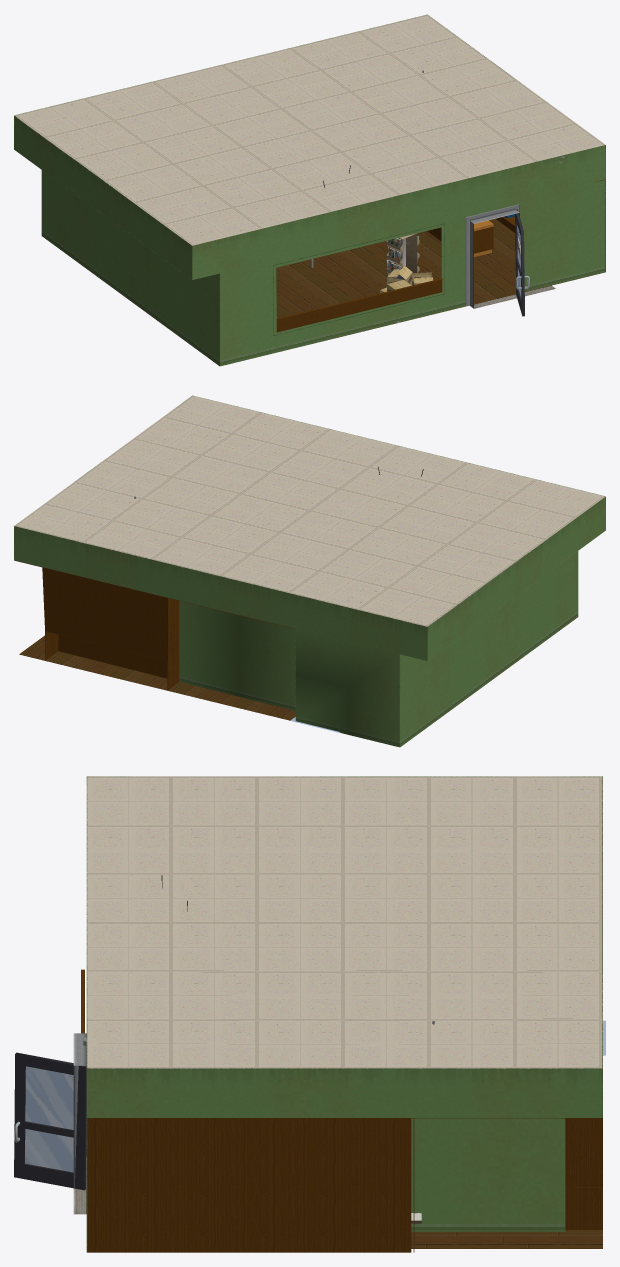
File: shop.fbx
3 renders of one model, top to bottom at view 1: azimuth 30°, elevation 25°; view 2: azimuth 150°, elevation 25°; view 3: azimuth 270°, elevation 25°, orthographic. The views are drawn at different scales.
Visible parts, largest first — view 1: polySurface166, polySurface19, polySurface1935; view 2: polySurface166; view 3: polySurface166, polySurface1935, polySurface19.
Part boxes in pixels (box(x1,y1,x2,y2)): polySurface166: box(14, 14, 605, 366); polySurface19: box(272, 70, 564, 336); polySurface1935: box(515, 209, 529, 316); polySurface166: box(14, 395, 605, 747); polySurface166: box(86, 776, 602, 1252); polySurface1935: box(14, 1052, 86, 1190); polySurface19: box(73, 875, 605, 1223).
Bounding box in the file's own units: 11.9 × 3.72 × 10.2.
